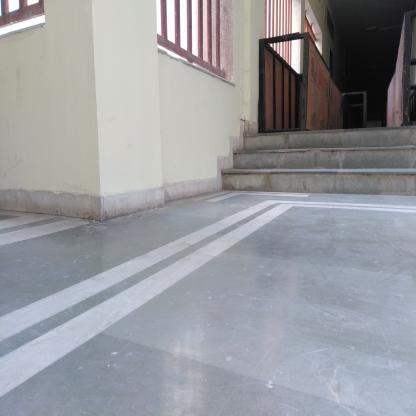stairs: (248, 130, 415, 199)
